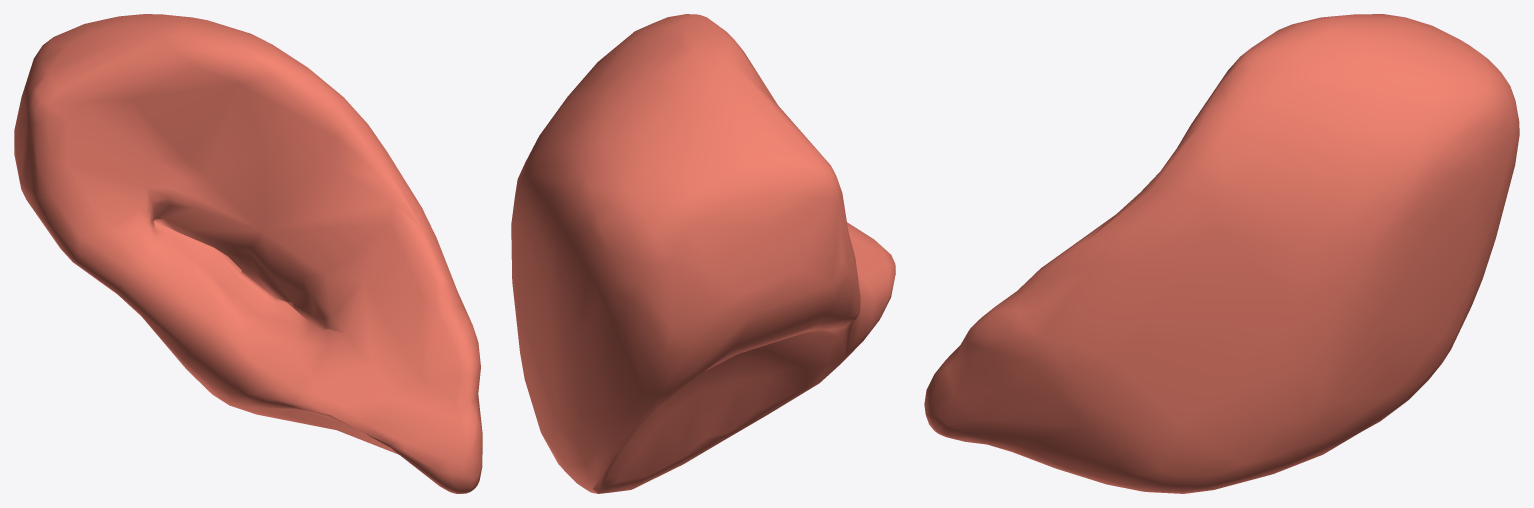
File: spleen.glb
3 views of the same model, side by side, from view 1: azimuth 30°, elevation 25°; view 2: azimuth 150°, elevation 25°; view 3: azimuth 270°, elevation 25° (orthographic). The views are drawn at different scales.
Parts seen in each view (by area): view 1: Spleen; view 2: Spleen; view 3: Spleen.
Boxes of the visible parts, bbox=[...] form: Spleen: bbox=[14, 14, 482, 493]; Spleen: bbox=[511, 14, 895, 493]; Spleen: bbox=[924, 14, 1519, 493].
Bounding box in the file's own units: 1.23 × 1.48 × 2.
